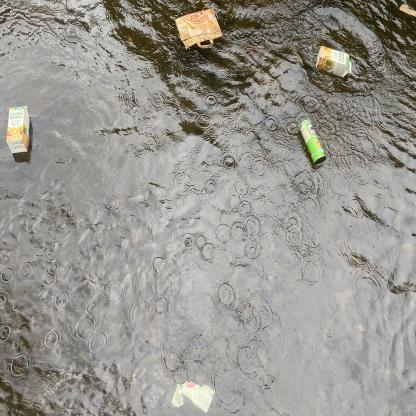trash: (168, 7, 226, 55), (168, 376, 219, 416), (294, 115, 328, 170), (312, 42, 356, 82), (6, 100, 34, 159), (398, 3, 416, 20)
